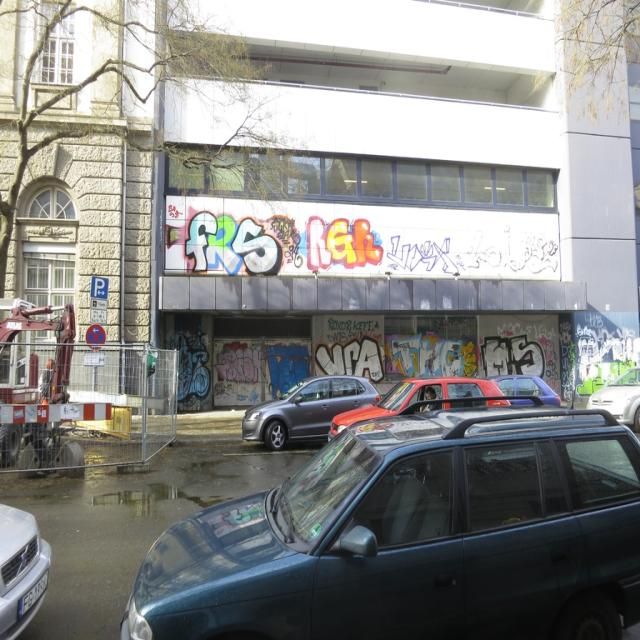Passenger Car: (117, 414, 640, 638), (239, 367, 379, 451), (0, 499, 54, 640), (586, 362, 638, 432)
